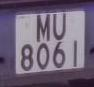0: (34, 41, 52, 73)
1: (69, 39, 81, 72)
6: (51, 41, 68, 72)
8: (19, 41, 36, 75)
M: (34, 11, 52, 46)
U: (51, 11, 68, 43)
